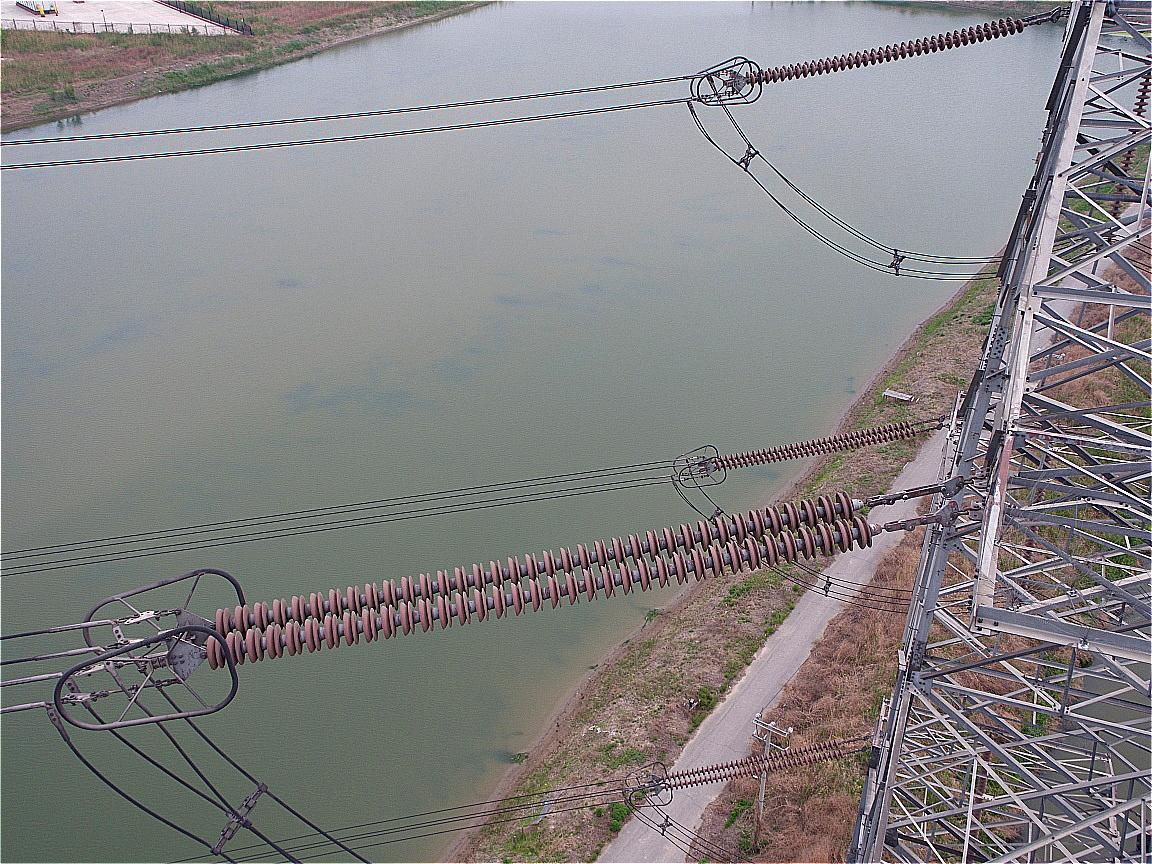insultor2: (199, 482, 878, 684), (729, 13, 1038, 94), (691, 414, 929, 466)
